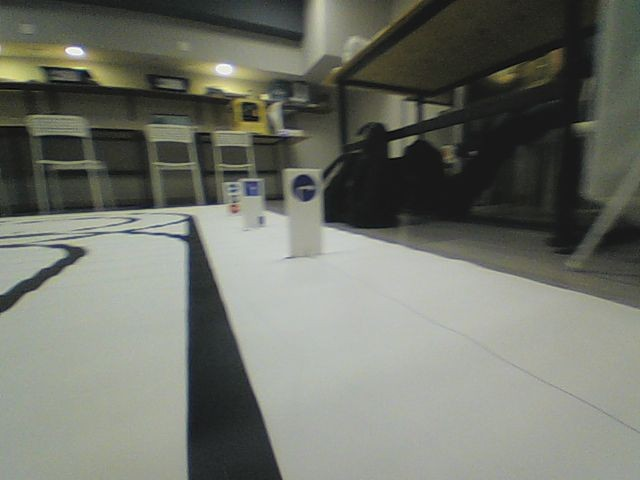Right: (290, 174, 317, 203)
